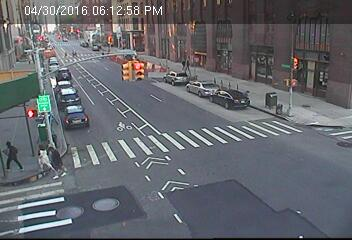neg: (286, 137, 342, 211), (304, 41, 343, 93), (233, 92, 270, 142), (138, 175, 172, 220), (276, 7, 305, 44), (141, 120, 169, 158), (202, 5, 229, 41), (271, 74, 295, 106), (195, 144, 217, 175), (197, 54, 217, 81), (145, 41, 165, 68), (85, 144, 103, 167), (88, 66, 104, 88), (107, 65, 122, 85), (95, 7, 110, 26), (227, 74, 241, 93), (154, 1, 167, 18), (116, 38, 127, 53)
pos: (29, 138, 55, 173), (42, 144, 67, 177), (178, 55, 190, 70), (183, 57, 194, 72), (71, 45, 82, 60), (69, 49, 77, 60), (62, 50, 69, 59)
